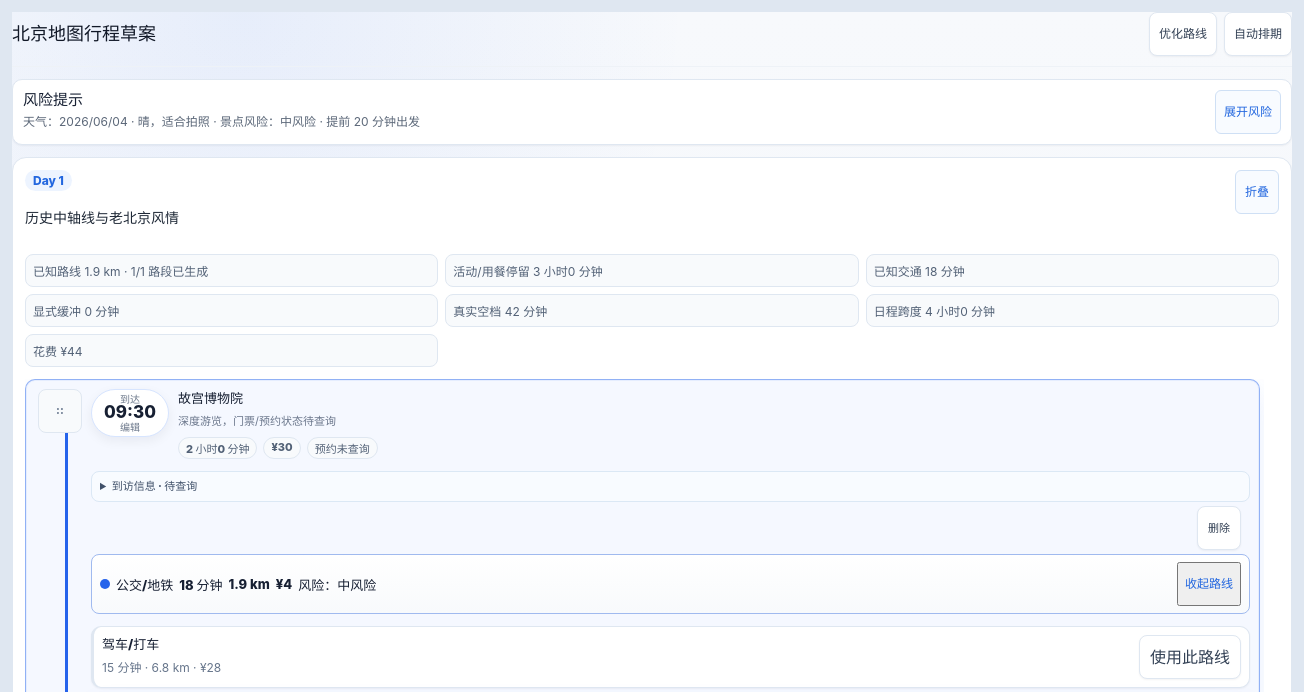
Test case: route selection recovers from a 409 by refreshing the current session and retrying the same safe route once
This screenshot has width=1304, height=692.
Click the button "使用此路线": click(1190, 657) [1139,635,1241,679]
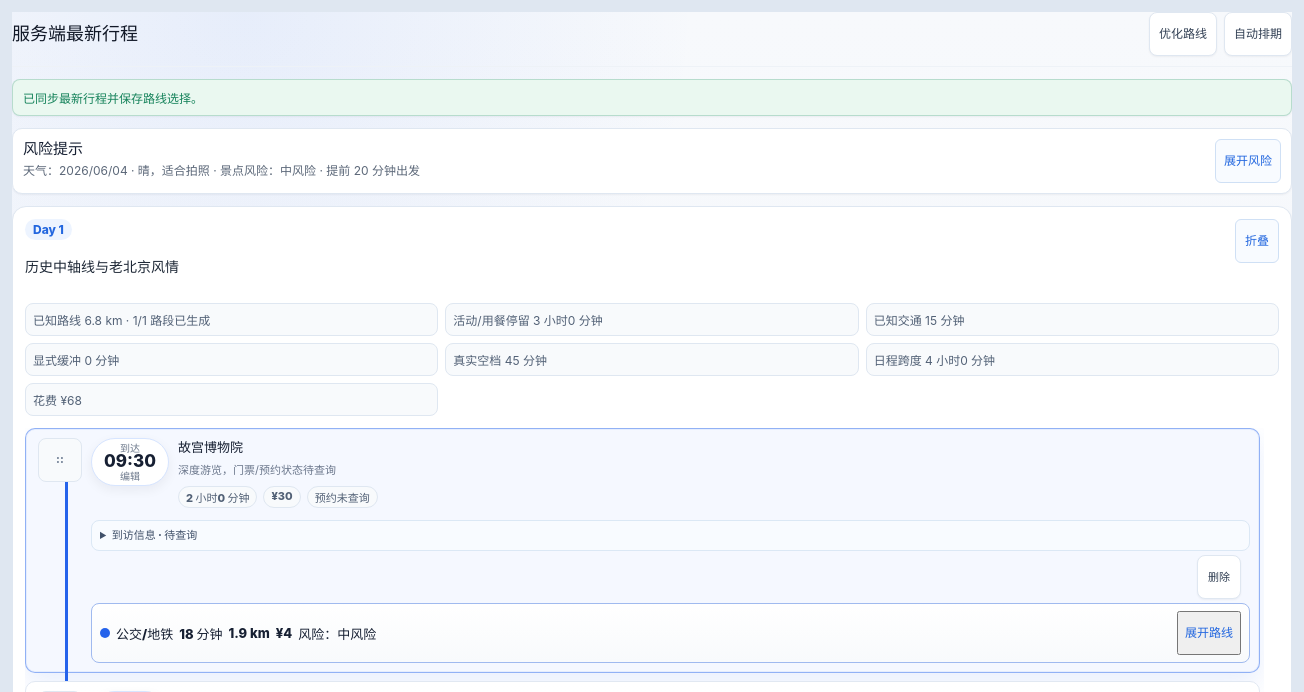
Expected: the text "已同步最新行程并保存路线选择。" is shown, [12,79,1292,116]
